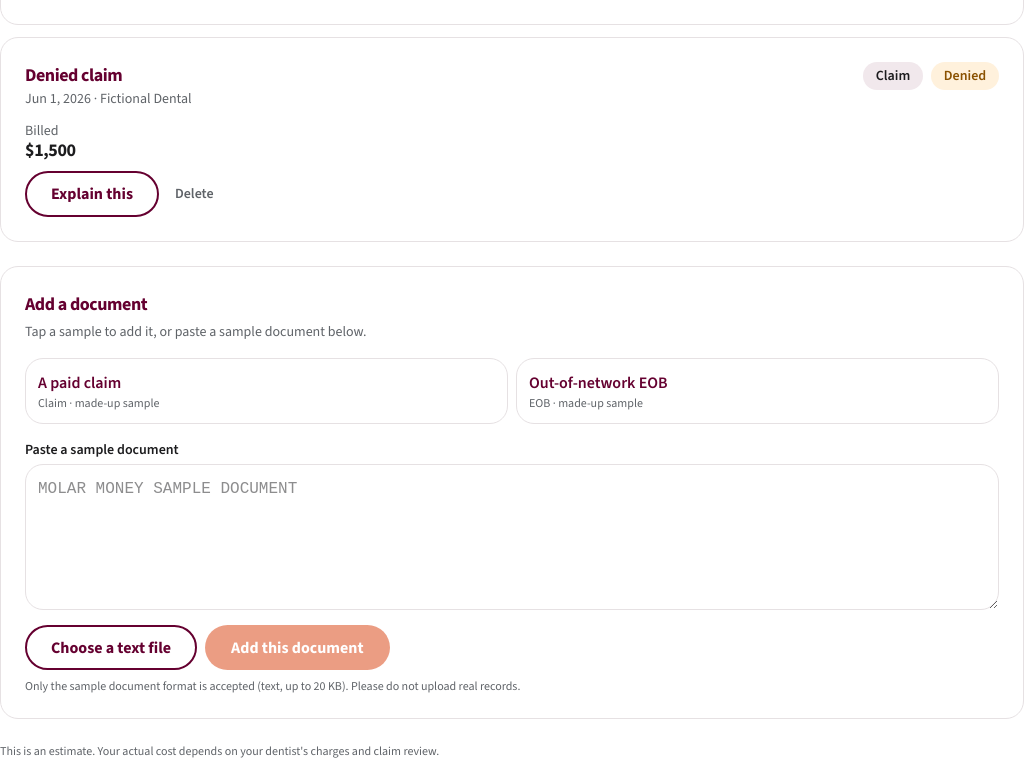
Test case: Reports page › adds a sample with one tap and reloads the list
(page scrolled)
Click the button with aria-label "Add sample: Out-of-network EOB" at [598, 382], box [516,358,999,424]
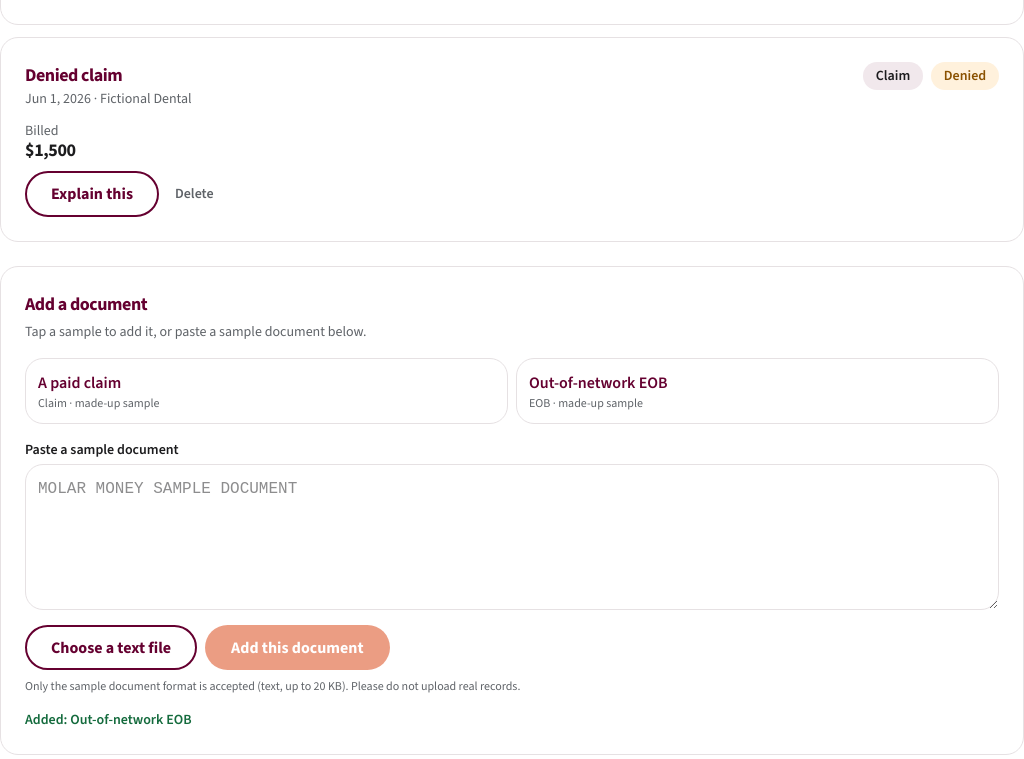
Expected: the text "Added: Out-of-network EOB" is shown, [25,710,192,729]
